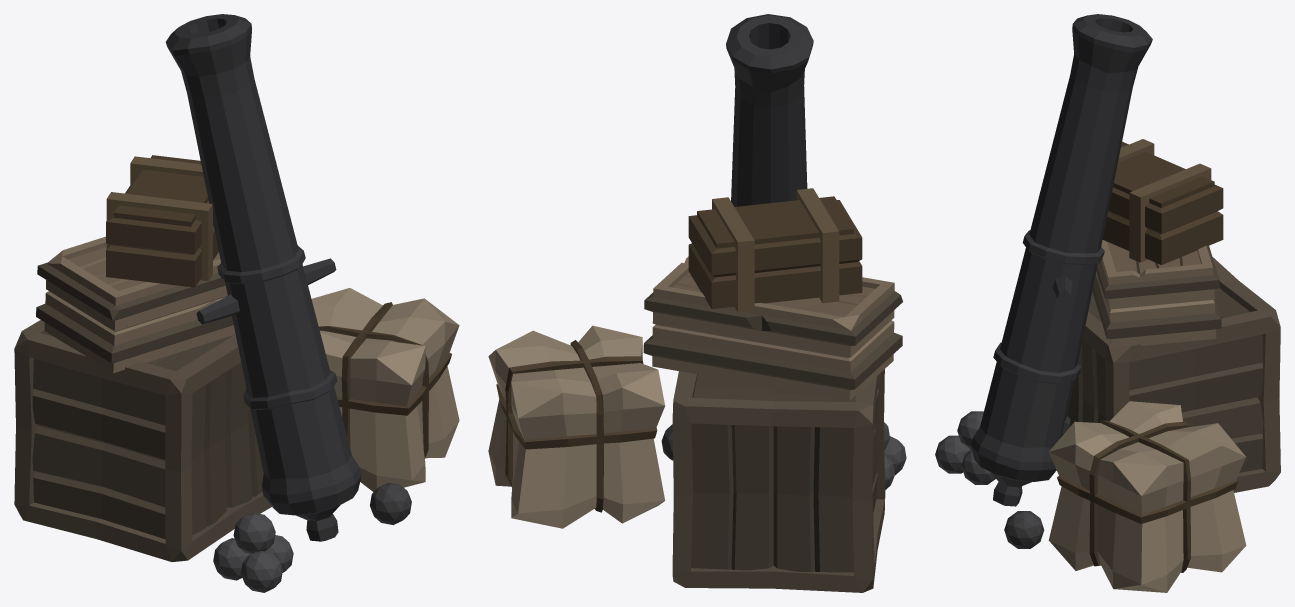
File: SM_Prop_Stack_06.glb
3 views of the same model, side by side, from view 1: azimuth 30°, elevation 25°; view 2: azimuth 150°, elevation 25°; view 3: azimuth 270°, elevation 25° (orthographic). The views are drawn at different scales.
Parts seen in each view (by area): view 1: SM_Prop_Stack_06; view 2: SM_Prop_Stack_06; view 3: SM_Prop_Stack_06.
Part boxes in pixels (x1,y1,x2,y2): SM_Prop_Stack_06: (14,14,459,592); SM_Prop_Stack_06: (488,14,906,592); SM_Prop_Stack_06: (935,14,1280,592).
Bounding box in the file's own units: 0.02 × 0.0231 × 0.0155.
